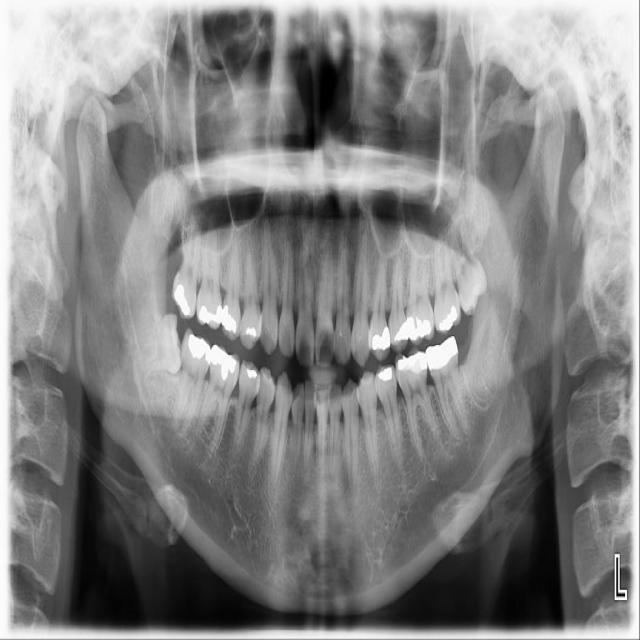52: (386, 343, 438, 397), (418, 334, 471, 386), (171, 326, 220, 380), (160, 270, 205, 324), (425, 293, 473, 339), (204, 343, 243, 397), (403, 305, 439, 348), (236, 302, 266, 351), (235, 359, 262, 405), (373, 363, 398, 407), (195, 291, 223, 330), (368, 318, 391, 363), (387, 311, 409, 355), (221, 295, 242, 341)
73: (624, 610, 634, 620)
BioHorizons Implant: (433, 224, 461, 336)
BioLife Implant: (445, 210, 492, 318)
Blue Sky Bio Implant: (423, 335, 472, 444)
Caries: (169, 212, 204, 321)
Implant: (173, 327, 214, 436)
Keystone Dental Implant: (137, 312, 185, 375)
